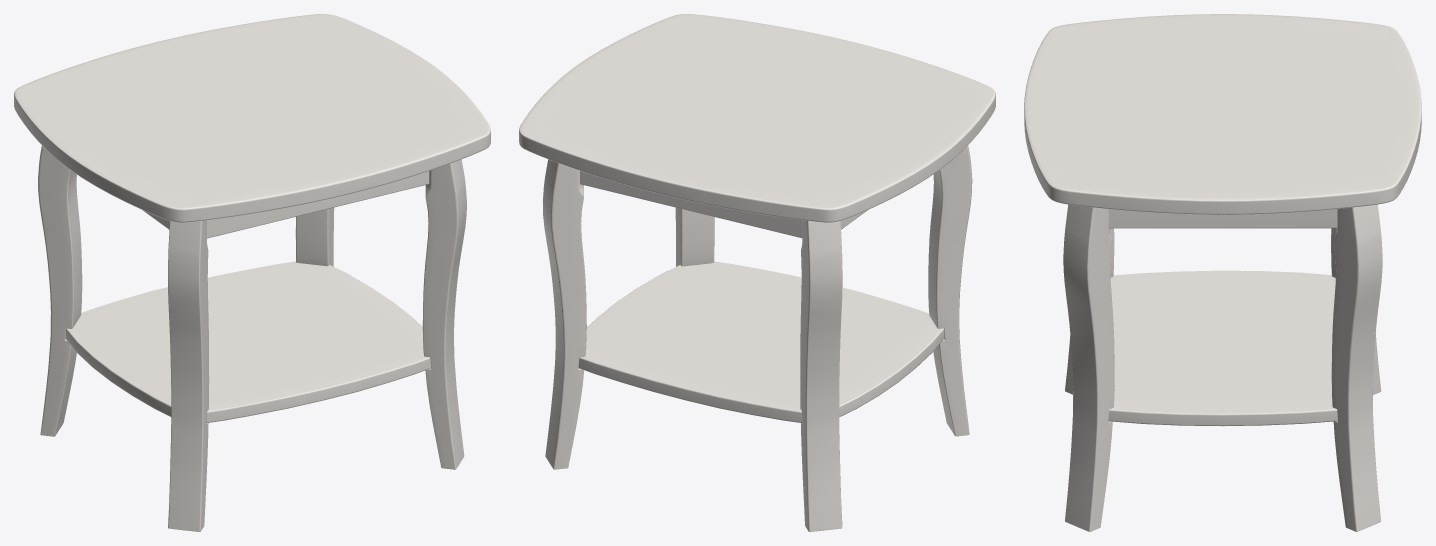
The model's file is abo-B07DBGHSN7.glb.
3 renders of one model, left to right at view 1: azimuth 30°, elevation 25°; view 2: azimuth 150°, elevation 25°; view 3: azimuth 270°, elevation 25°, orthographic. The views are drawn at different scales.
Bounding box in the file's own units: 0.502 × 0.438 × 0.451.
1 material, 1 textured.
